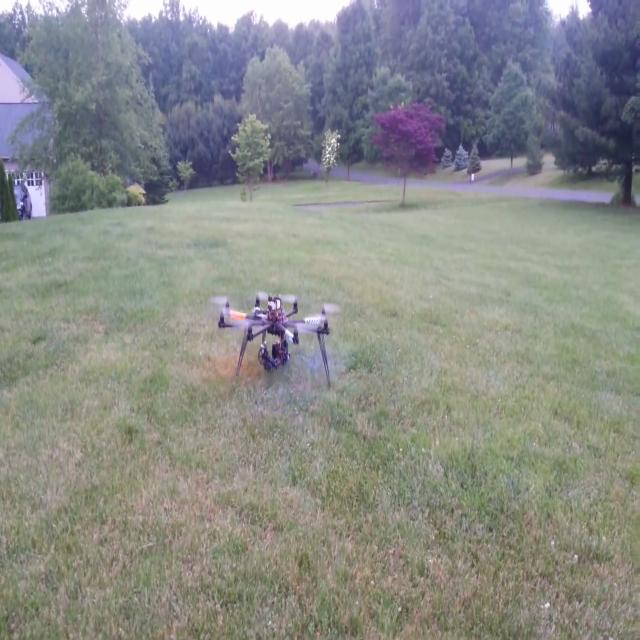drone: (215, 262, 343, 400)
